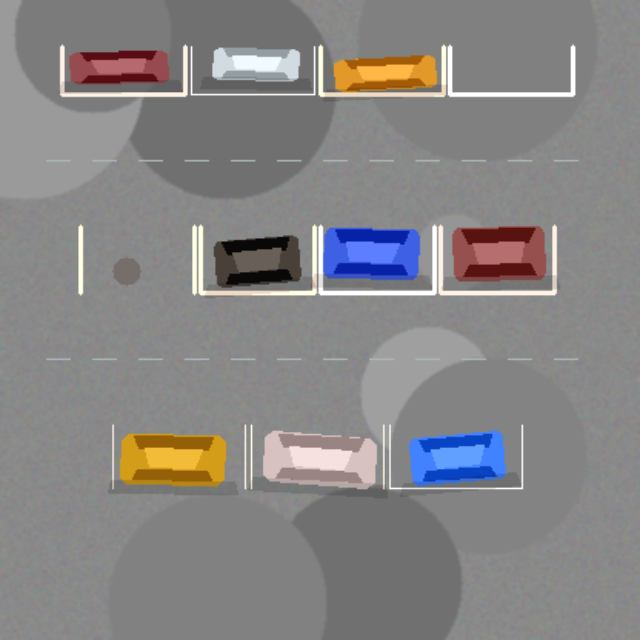space-empty: (80, 226, 194, 292), (449, 46, 572, 94)
space-occupied: (112, 425, 245, 488), (389, 425, 522, 488), (251, 425, 383, 488), (200, 226, 314, 292), (320, 226, 434, 292), (440, 226, 554, 292), (62, 46, 185, 94), (191, 46, 314, 94), (320, 46, 443, 94)
